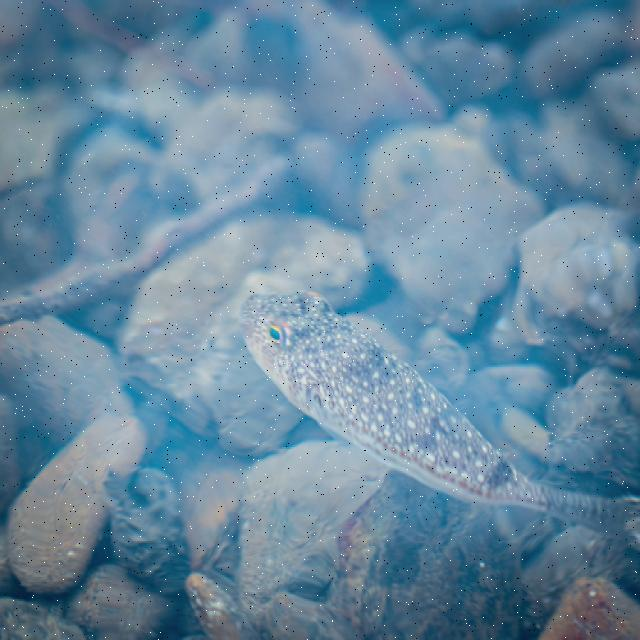Balik: (241, 292, 638, 532)
